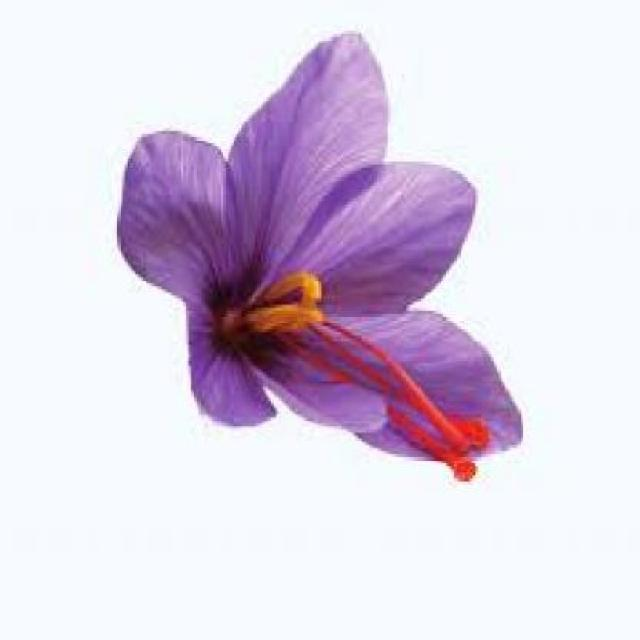saffron open: (118, 35, 522, 481)
